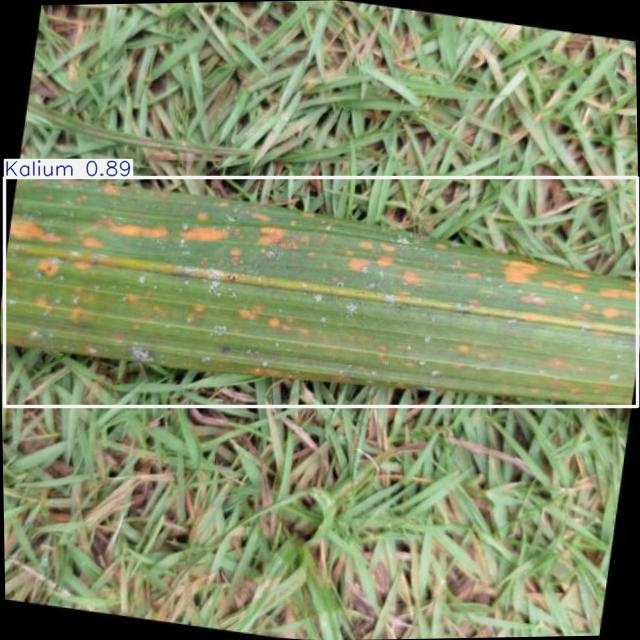Kalium: (5, 178, 638, 407)
